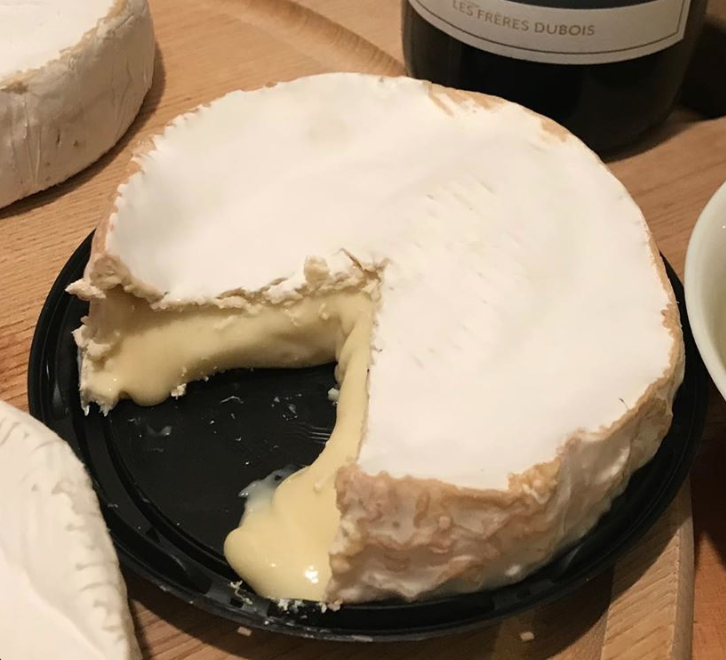camembert: (64, 72, 690, 623), (1, 1, 157, 215)
